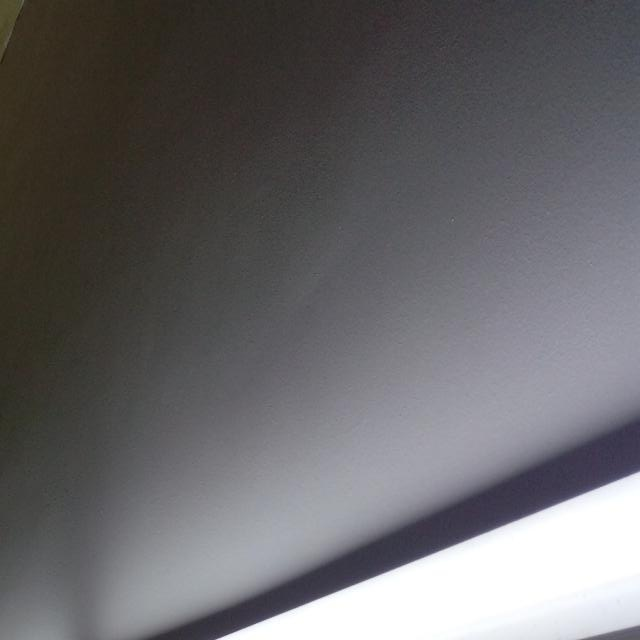fluorescent tube: (23, 463, 640, 640)
